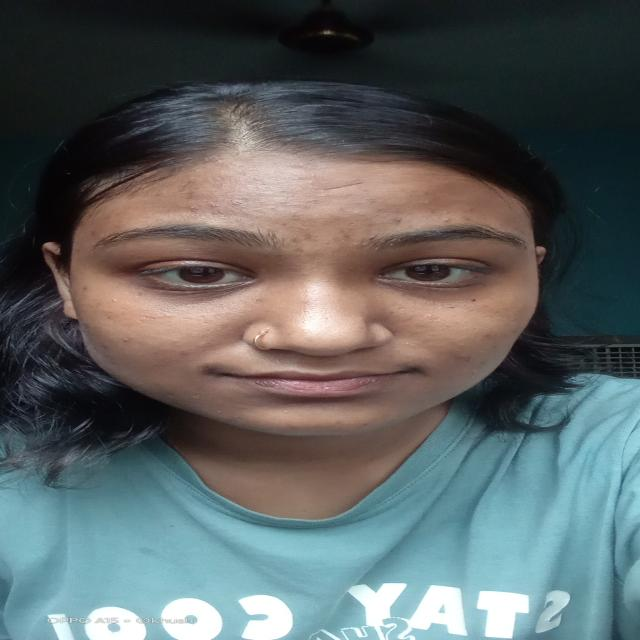Acne: (477, 331, 495, 341), (386, 216, 406, 224), (110, 338, 132, 345), (84, 230, 103, 238), (286, 214, 302, 223), (185, 190, 198, 200), (186, 204, 202, 212), (420, 199, 434, 208), (77, 286, 95, 292), (440, 217, 454, 224), (277, 424, 297, 428), (441, 210, 451, 216)
Wrinkles: (220, 193, 328, 200), (245, 183, 333, 190), (250, 178, 334, 182)
